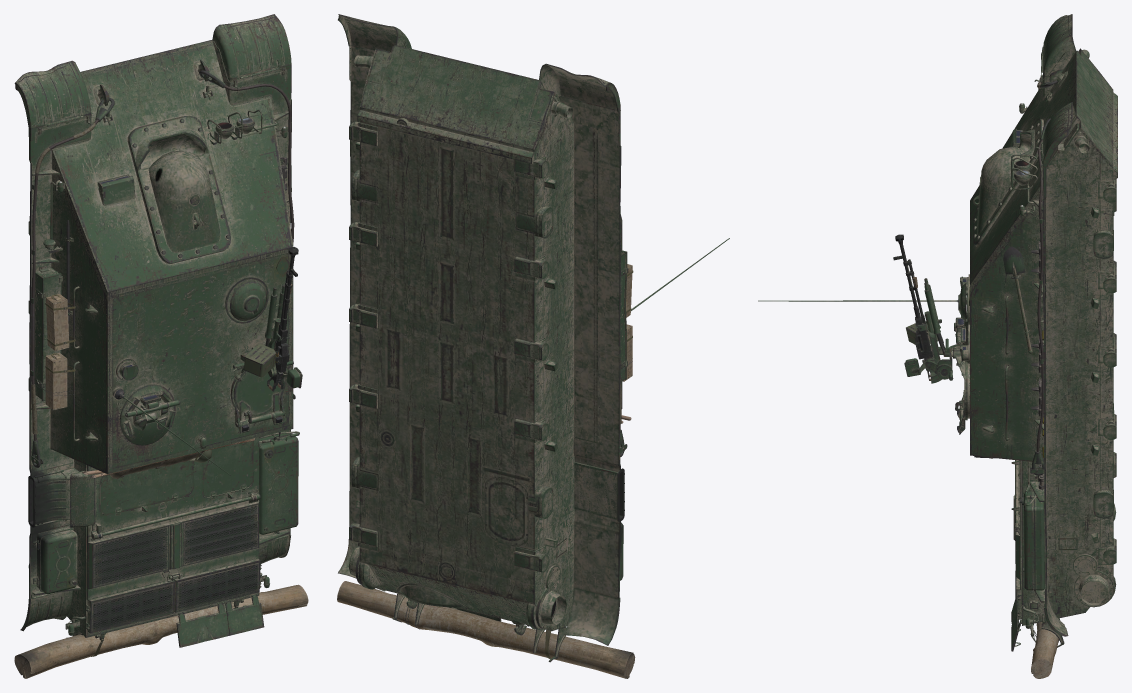
Rendered from Hull.glb.
3 renders of one model, left to right at view 1: azimuth 30°, elevation 25°; view 2: azimuth 150°, elevation 25°; view 3: azimuth 270°, elevation 25°, orthographic. The views are drawn at different scales.
Parts seen in each view (by area): view 1: set_0_group_0; view 2: set_0_group_0; view 3: set_0_group_0.
Boxes of the visible parts, x1=… form: set_0_group_0: x1=14, y1=14, x2=308, y2=678; set_0_group_0: x1=337, y1=14, x2=729, y2=678; set_0_group_0: x1=758, y1=14, x2=1117, y2=678.
Bounding box in the file's own units: 3.05 × 6.11 × 3.61.
Materials: 1 (1 with a texture image).
